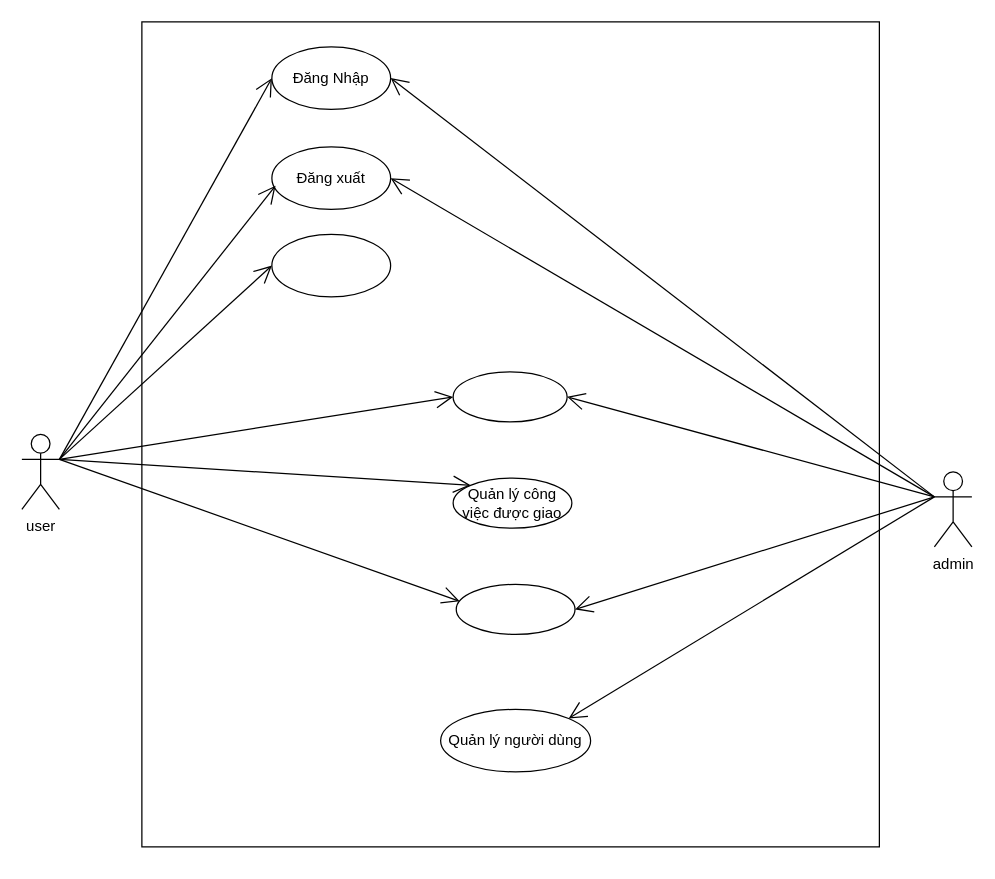
The diagram is 995 pixels wide and 879 high, and some of its shapes have lost their labels. Here are the shapes that lost their labels. From the top down, the centre of each, then its label:
the point at 331,265: Đăng Kí
the point at 509,396: Quản lý dự án
the point at 515,608: Quản lý ghi chú
